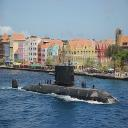submarine: (12, 66, 120, 105)
